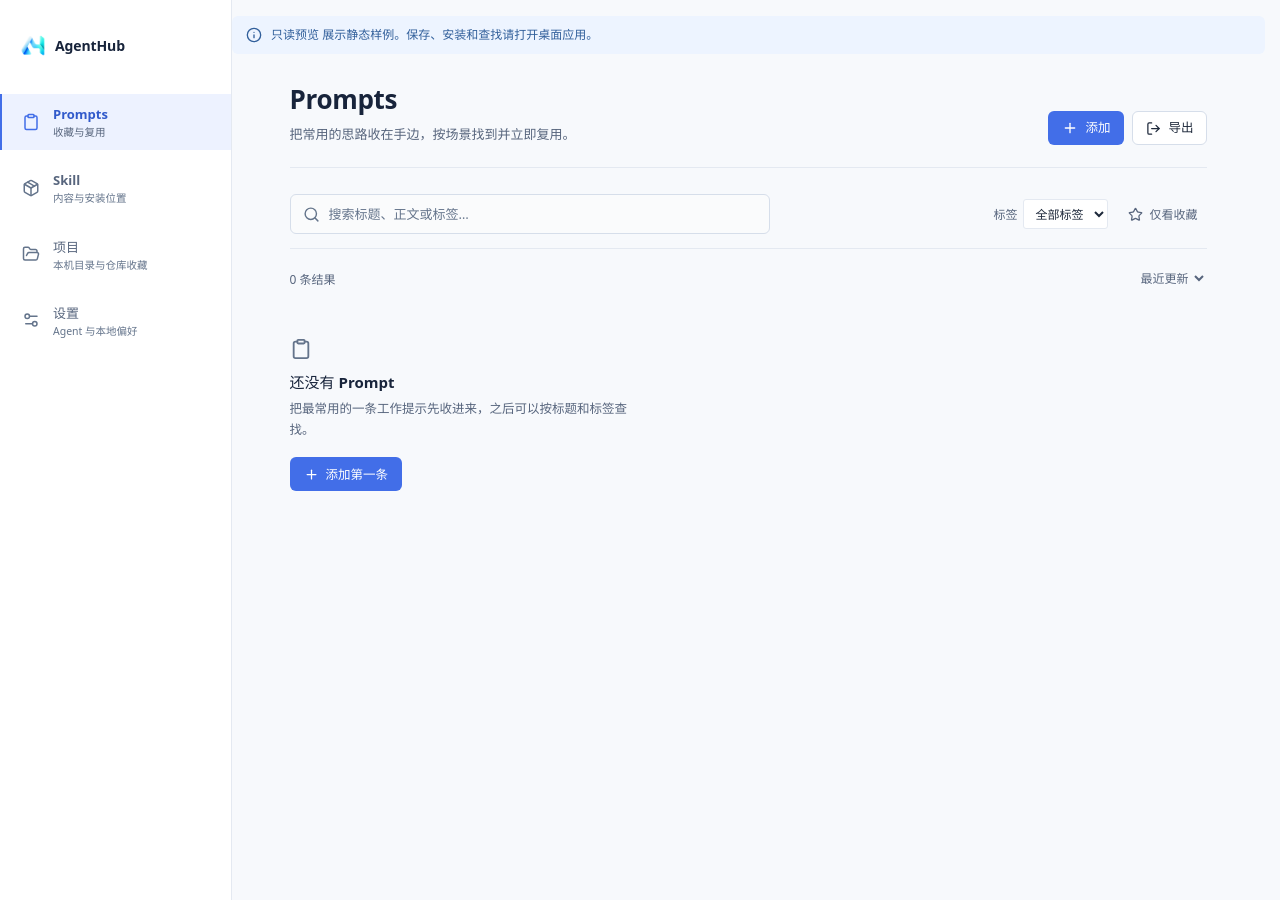
Test: does not revert another row when concurrent saves finish out of order
This screenshot has width=1280, height=900.
Click the button "Skill 内容与安装位置" at (116, 188), box [0,160,231,216]
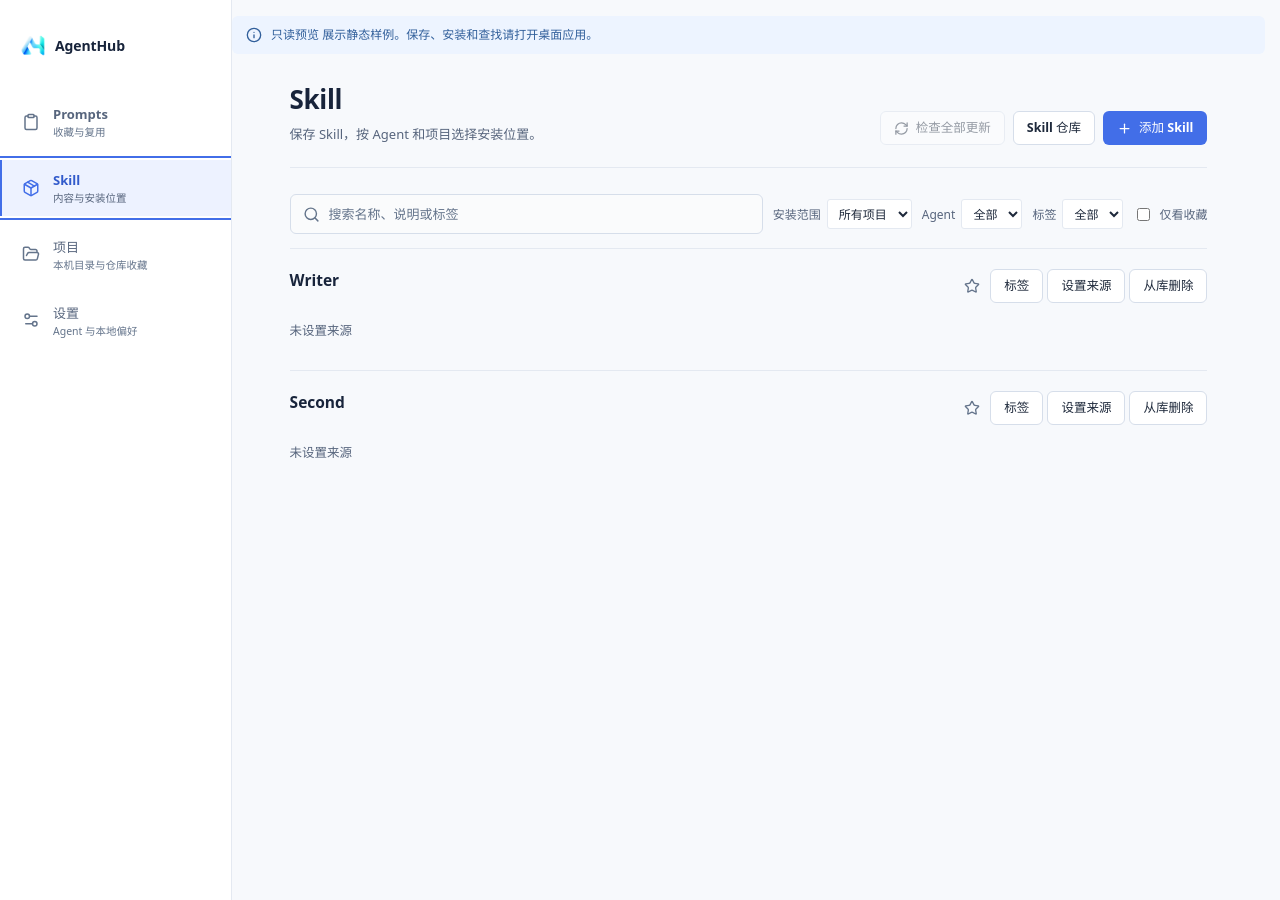
Click the button named "收藏 Writer" at (972, 286), box [958,272,986,300]
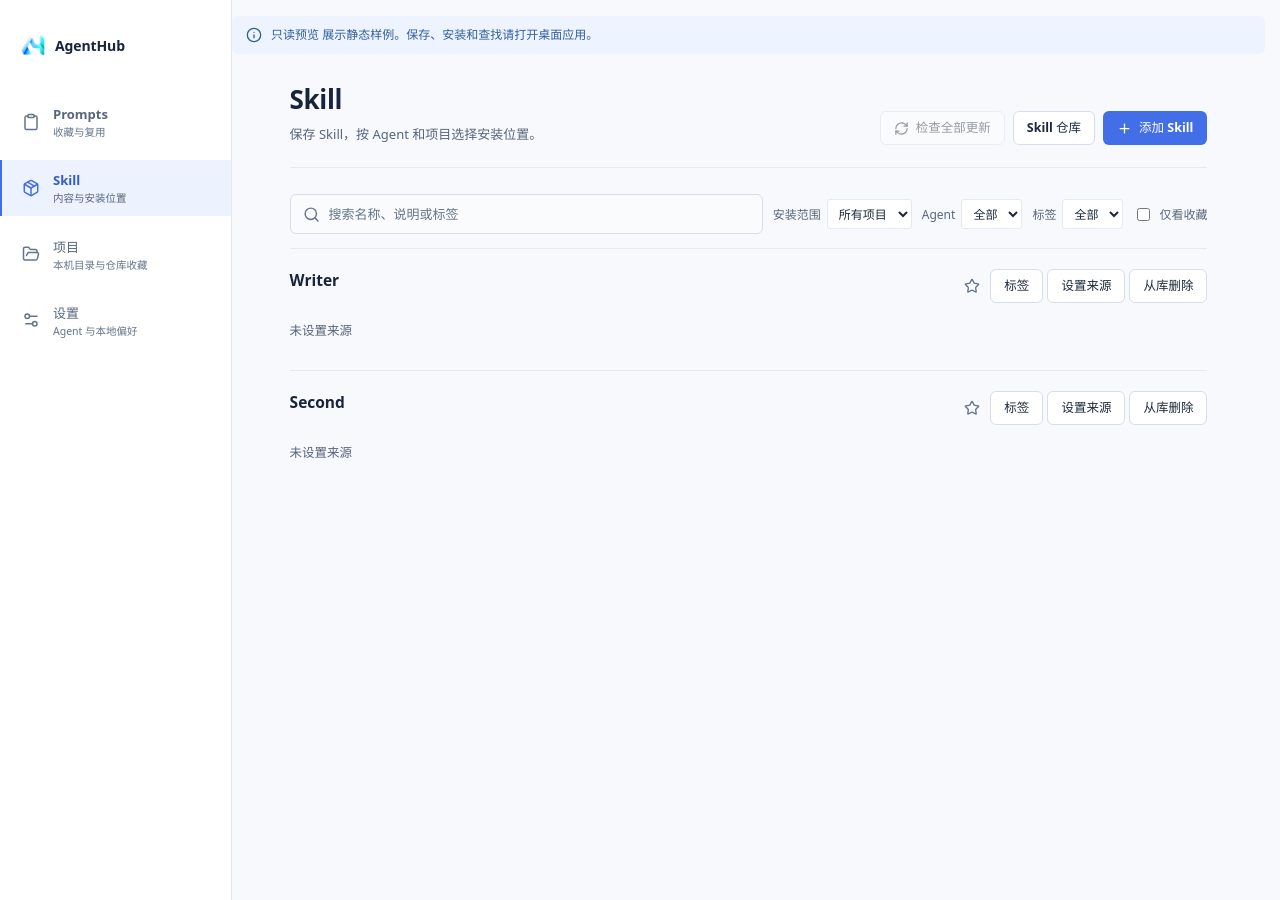
Click the 2nd button "标签" at (1017, 408), box [990,391,1043,425]
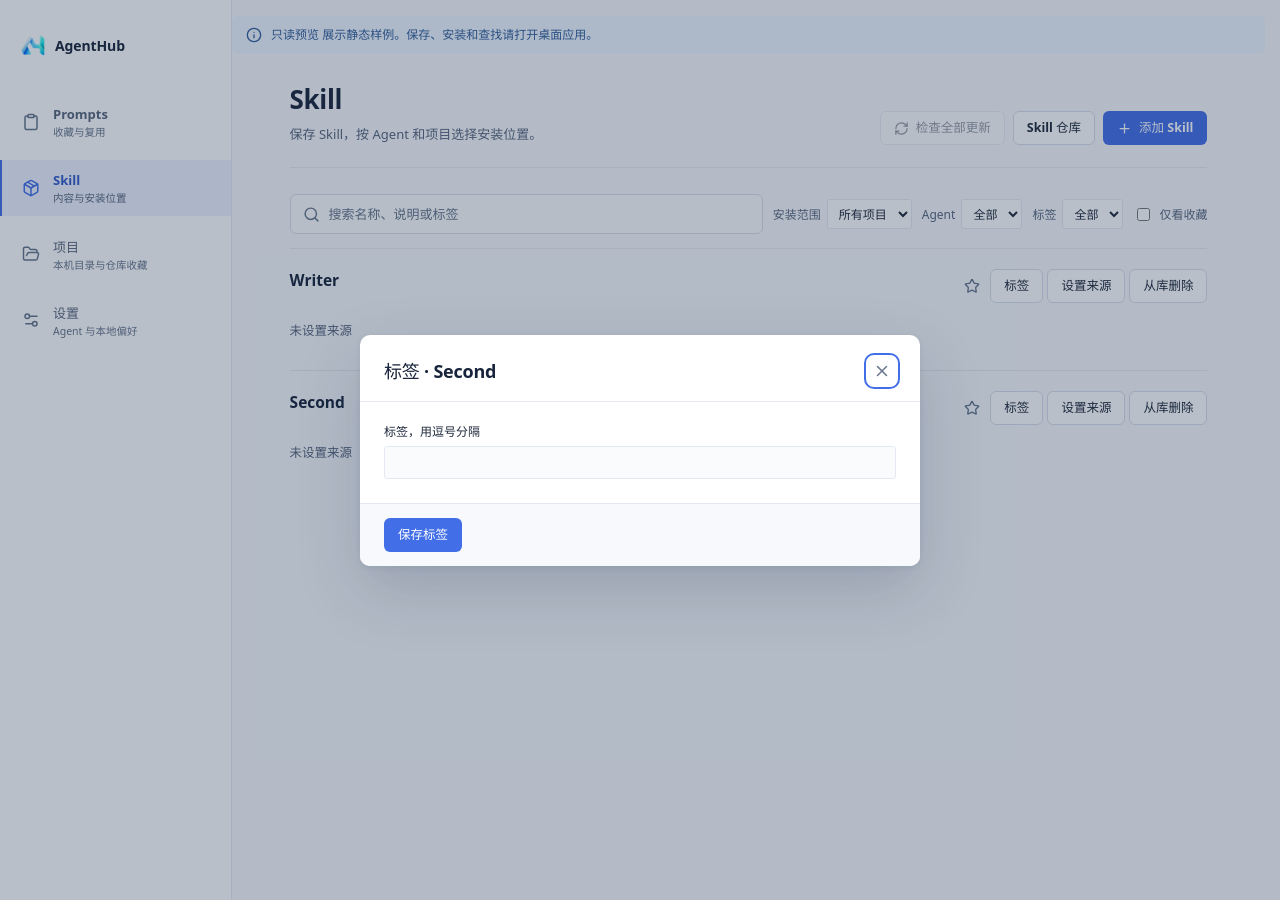
Type "kept" into the field labelled "标签，用逗号分隔" at (640, 462), box [384,446,896,478]
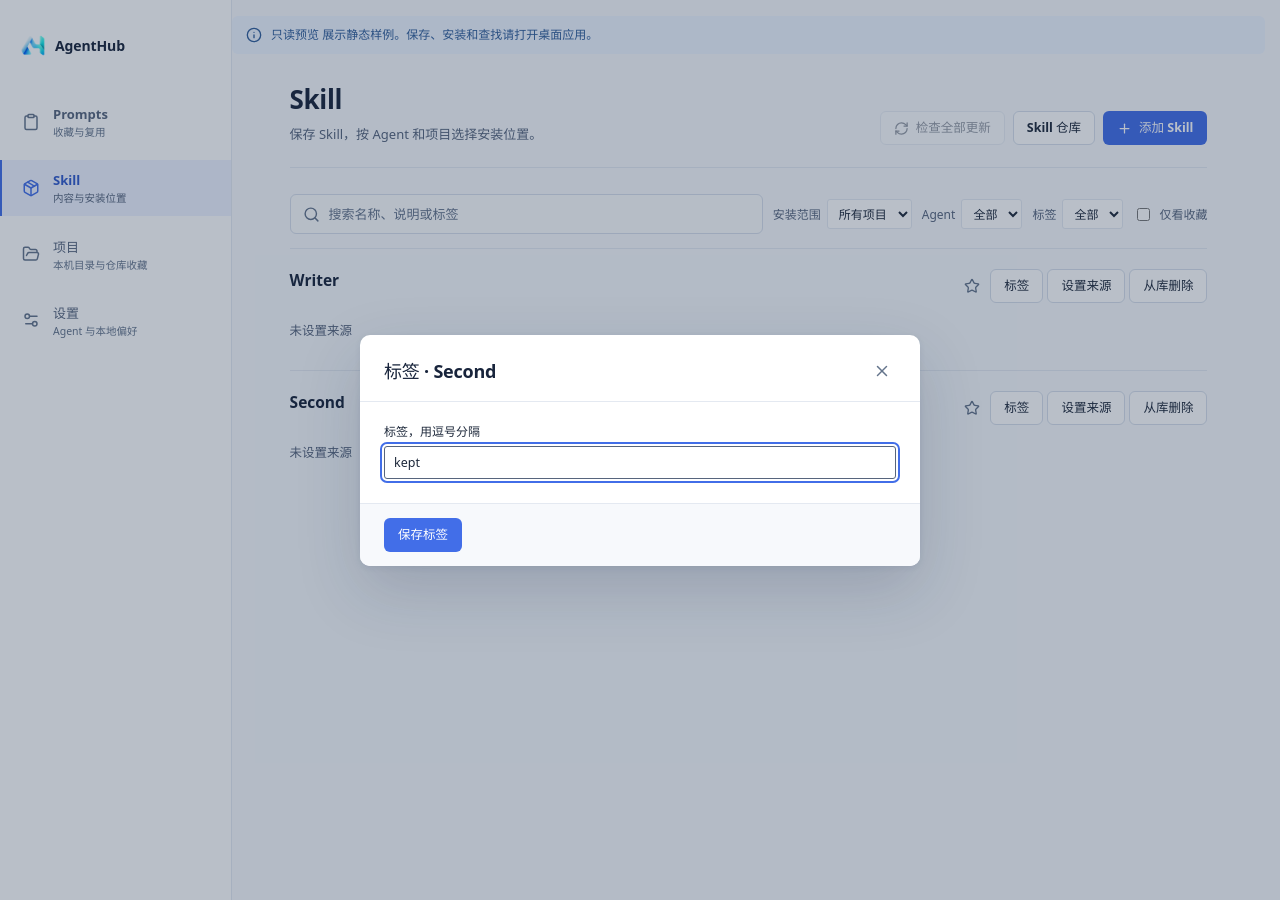
Click the button "保存标签" at (423, 534), box [384,518,462,552]
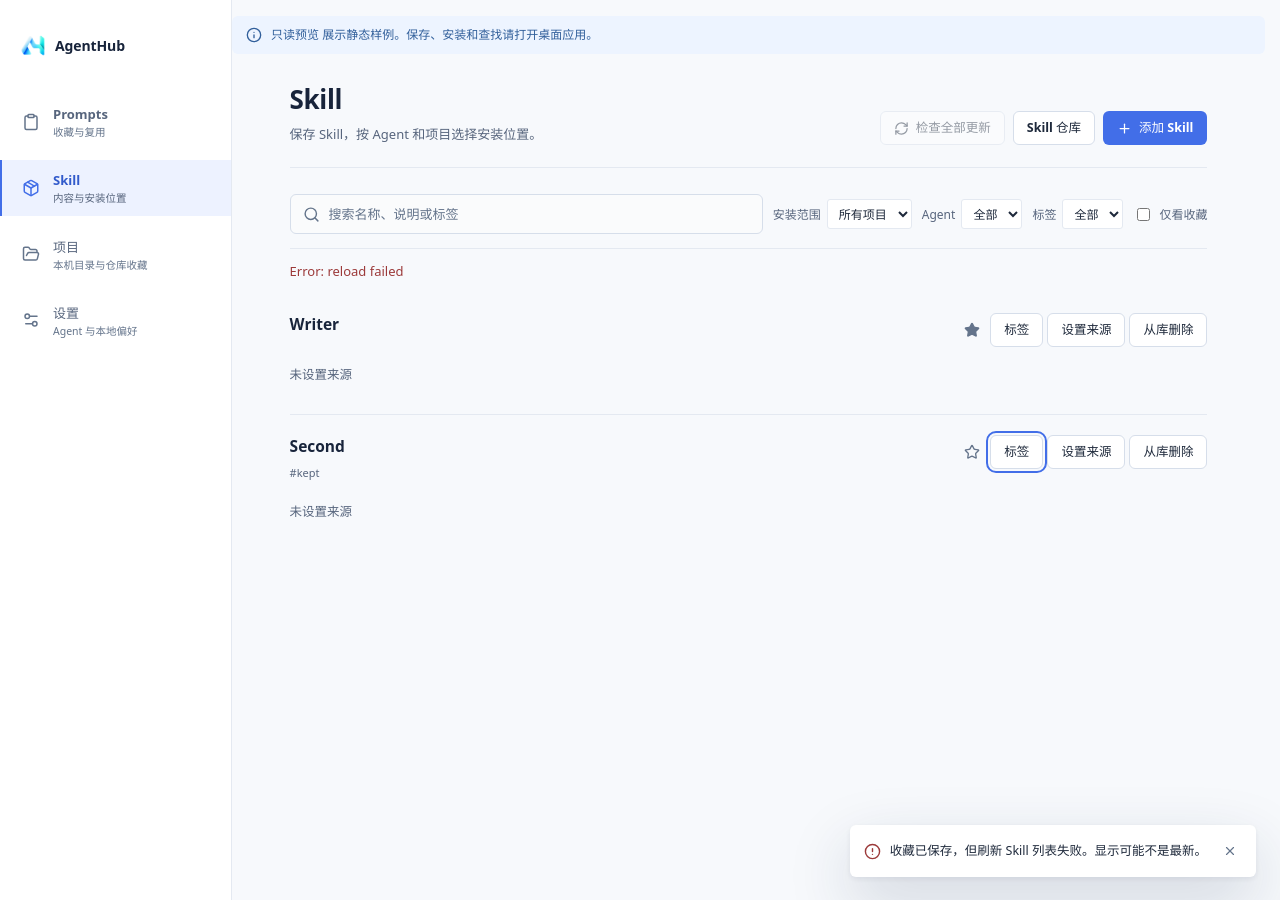
Check: the text "#kept" is shown, box [290,465,320,480]
Check: the button named "取消收藏 Writer" is enabled, box [958,316,986,344]
